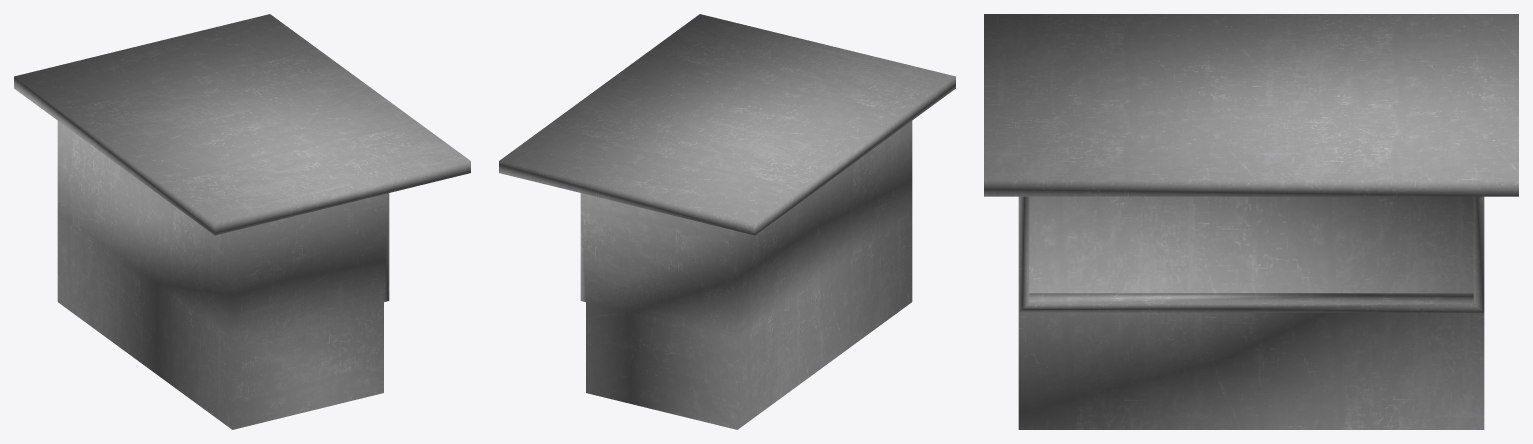
The model's file is comentator_box.fbx.
3 renders of one model, left to right at view 1: azimuth 30°, elevation 25°; view 2: azimuth 150°, elevation 25°; view 3: azimuth 270°, elevation 25°, orthographic. The views are drawn at different scales.
Parts seen in each view (by area): view 1: Cube; view 2: Cube; view 3: Cube.
Part boxes in pixels (<box>): Cube: <box>14,14,470,429</box>; Cube: <box>499,14,955,429</box>; Cube: <box>984,14,1518,429</box>.
Bounding box in the file's own units: 5.07 × 4.23 × 6.89.
